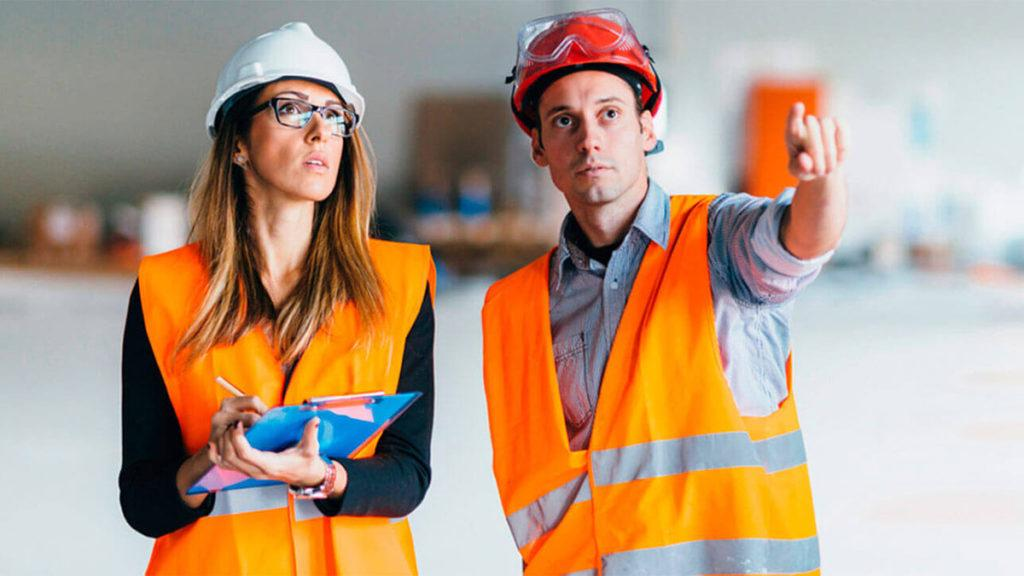hat: (180, 7, 404, 151), (482, 1, 681, 132)
vest: (465, 185, 831, 576), (105, 208, 444, 576)
